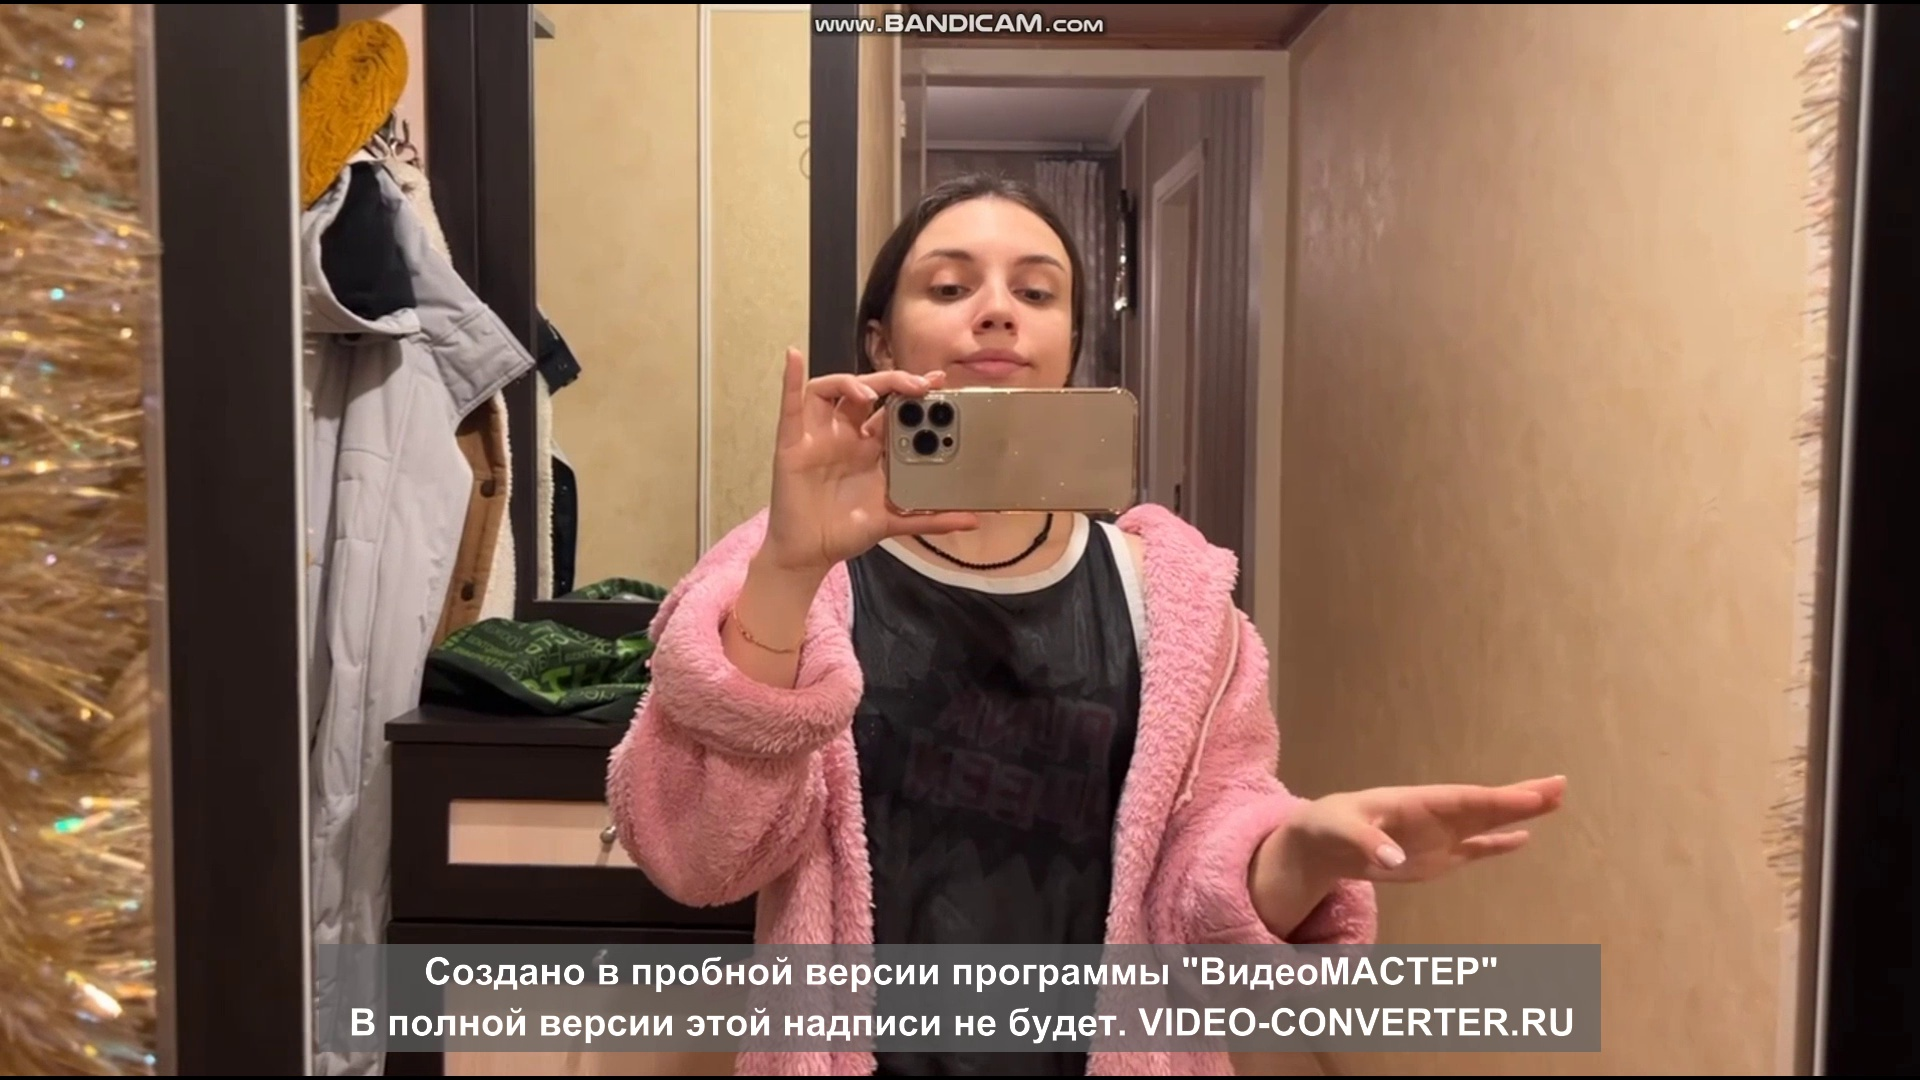Ладонь: (1305, 775, 1569, 884)
